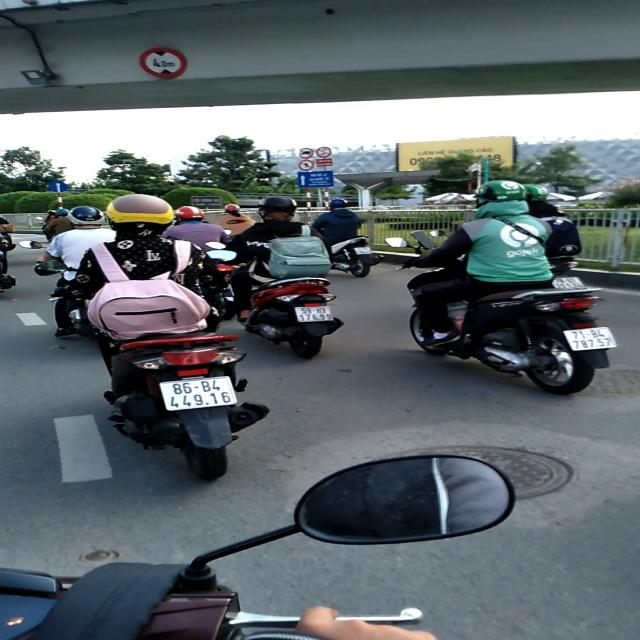Chieu cao toi da: (139, 47, 187, 78)
